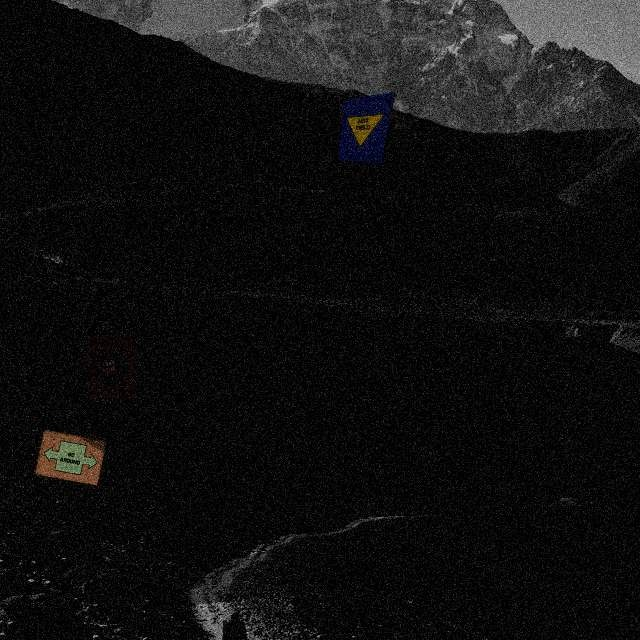FAKE_STOP: (92, 347, 128, 385)
GO_AROUND: (41, 438, 101, 477)
NOT_YIELD: (343, 113, 385, 148)
